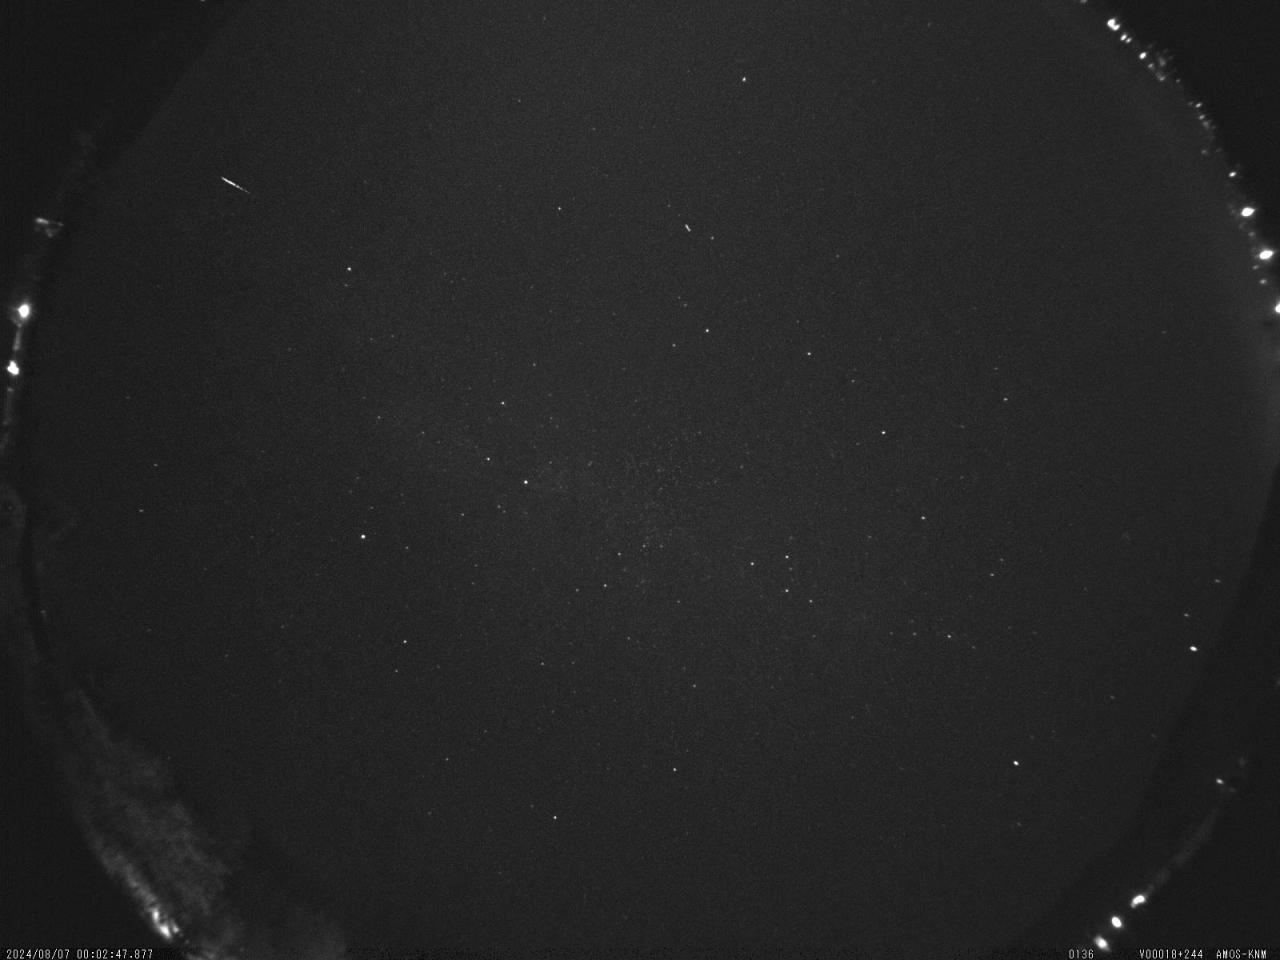Meteor: (215, 168, 258, 202)
